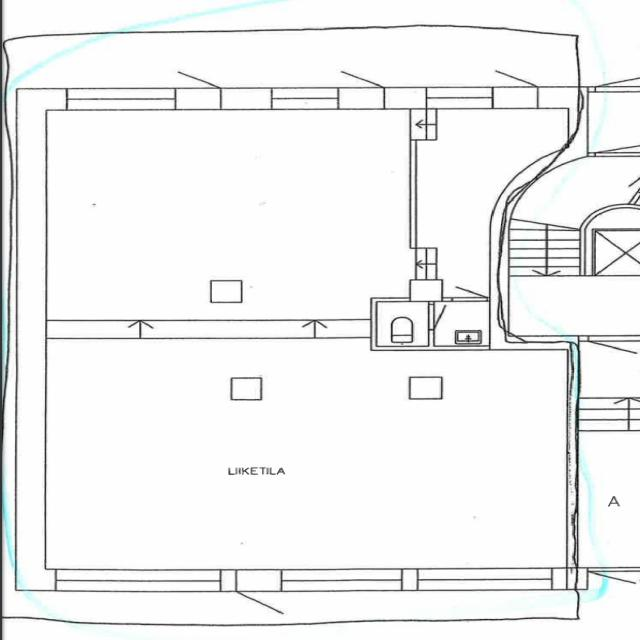door: (337, 55, 383, 110), (492, 56, 537, 110), (236, 568, 280, 622), (176, 57, 220, 110), (428, 304, 469, 330), (452, 273, 486, 302)
